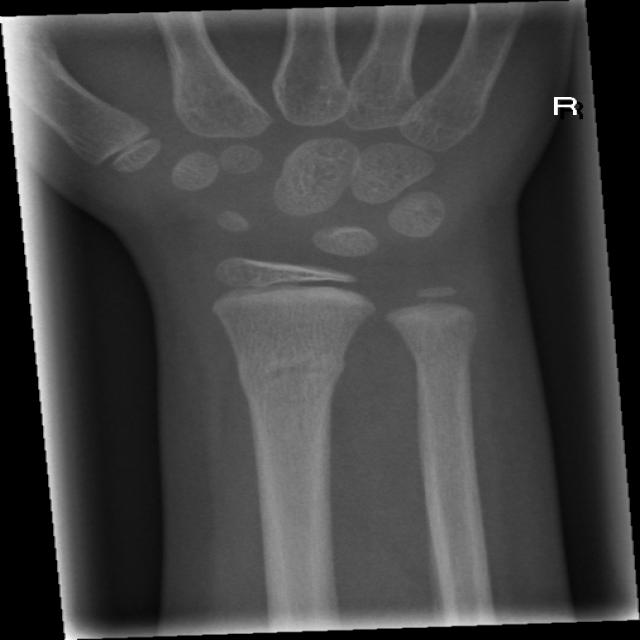radius fracture: (204, 324, 374, 436)
